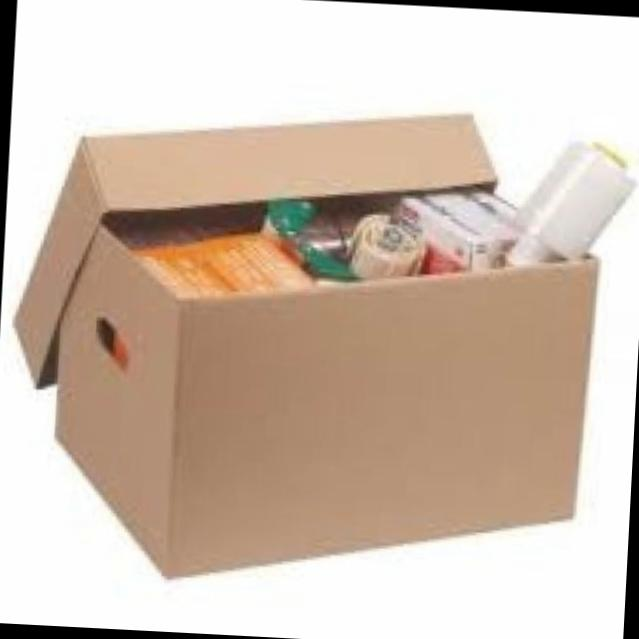cardboard paper: (13, 112, 595, 573)
